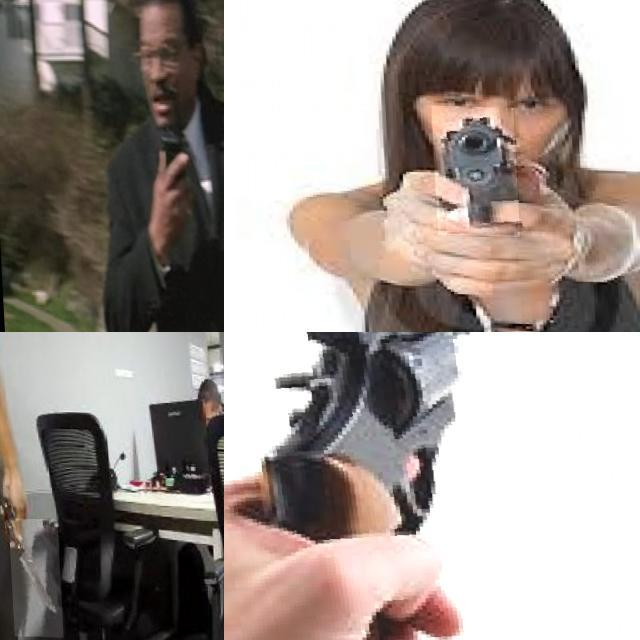-: (3, 516, 57, 636)
gun-knife-thesis - v11 Yolov5 augmented: (224, 332, 592, 640), (430, 104, 517, 235)
